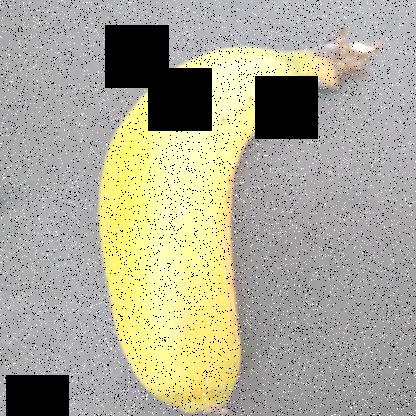freshripe: (75, 32, 319, 415)
